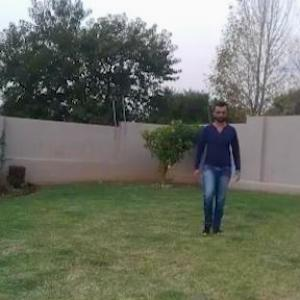follow: (195, 102, 236, 232)
